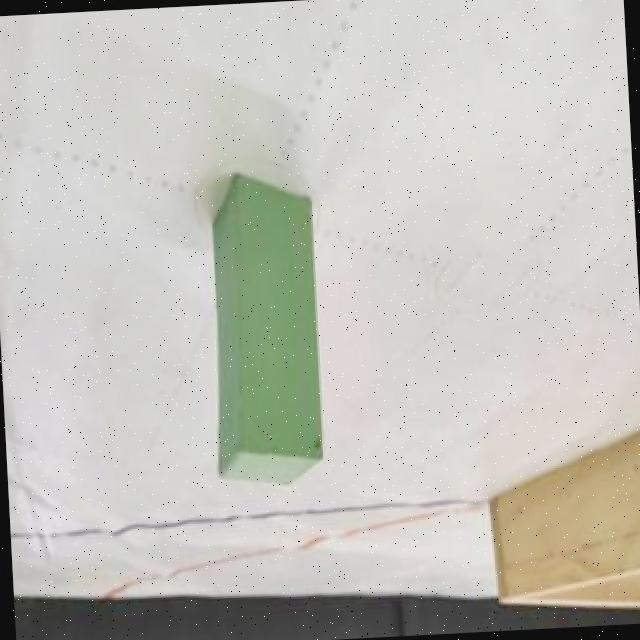greenbox: (200, 170, 326, 492)
